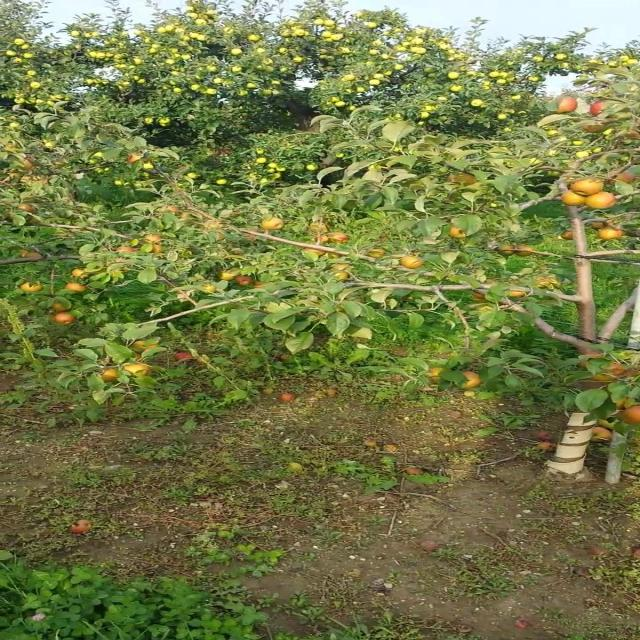apple: (584, 191, 616, 209), (569, 178, 602, 195), (122, 362, 151, 377), (449, 172, 478, 186), (560, 191, 587, 206), (11, 155, 36, 171), (556, 96, 578, 114), (598, 226, 624, 240), (260, 216, 284, 231), (462, 370, 482, 388), (620, 405, 640, 423), (131, 339, 158, 352), (604, 362, 627, 377), (400, 255, 424, 269), (51, 312, 76, 325), (331, 264, 351, 280), (589, 100, 607, 116), (327, 231, 349, 244), (616, 396, 638, 409), (100, 368, 120, 382), (302, 248, 327, 259), (20, 281, 44, 292), (616, 171, 636, 184), (309, 221, 329, 234), (18, 249, 42, 259), (64, 282, 87, 292), (516, 245, 536, 256), (367, 248, 387, 259), (202, 219, 222, 230), (498, 244, 516, 256), (449, 225, 464, 239), (173, 351, 193, 361), (582, 124, 607, 132), (218, 270, 236, 281), (507, 289, 529, 298), (51, 301, 69, 312), (333, 270, 351, 281), (71, 268, 89, 279), (236, 275, 253, 286), (331, 262, 351, 271), (16, 204, 38, 212), (471, 291, 487, 302), (144, 234, 162, 243), (202, 284, 218, 294), (160, 205, 180, 213), (116, 245, 138, 252), (149, 244, 164, 254), (162, 205, 180, 213), (589, 221, 607, 229), (127, 154, 142, 163), (560, 230, 573, 240), (316, 234, 329, 244), (211, 231, 224, 241), (244, 231, 258, 239), (253, 281, 269, 287)
